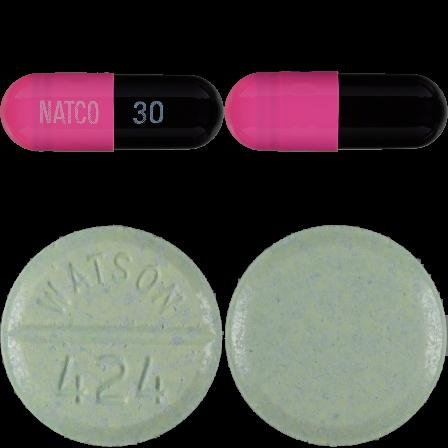55700-393: (0, 0, 224, 224)
